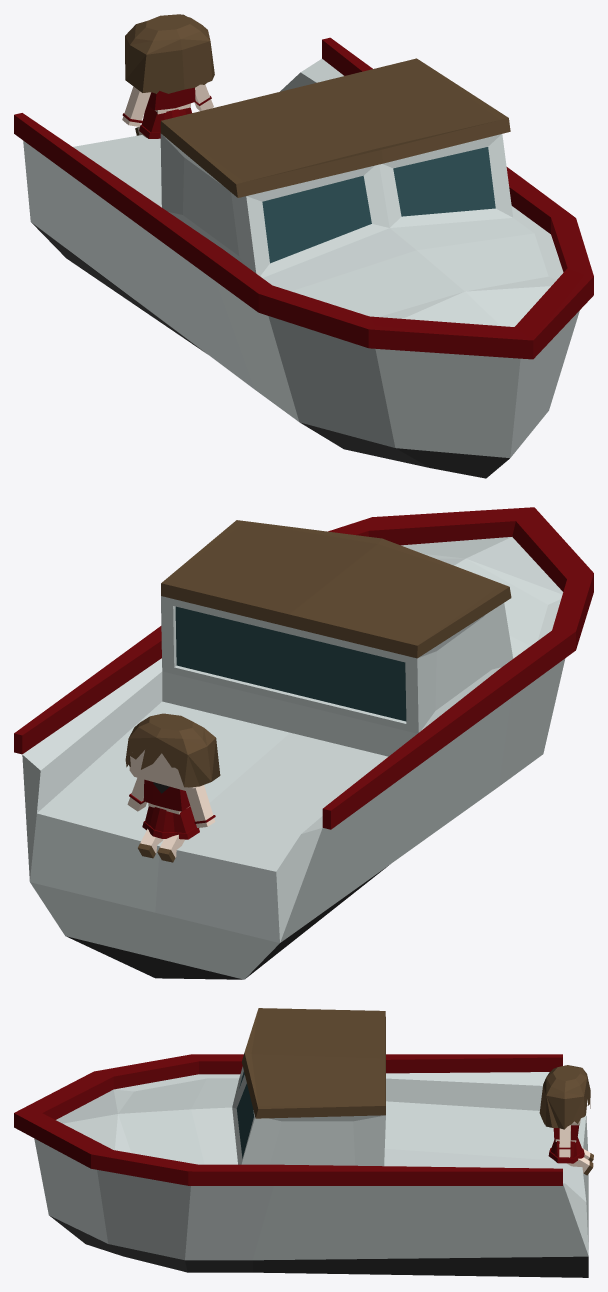
File: littleshipMEIKO.glb
The picture shows the model from 3 angles, top to bottom: view 1: azimuth 30°, elevation 25°; view 2: azimuth 150°, elevation 25°; view 3: azimuth 270°, elevation 25°; orthographic projection. The views are drawn at different scales.
Parts seen in each view (by area): view 1: Cube, 球体, 立方体.004, 立方体.013, 立方体; view 2: Cube, 球体, 立方体.003, 立方体, 立方体.004, 立方体.013; view 3: Cube, 球体.
Boxes of the visible parts, x1,y1,x2,y2 form: Cube: [14, 37, 593, 478]; 球体: [125, 14, 214, 93]; 立方体.004: [147, 87, 195, 110]; 立方体.013: [122, 86, 151, 126]; 立方体: [142, 104, 191, 132]; Cube: [14, 507, 593, 979]; 球体: [125, 713, 220, 787]; 立方体.003: [129, 750, 193, 791]; 立方体: [145, 806, 196, 833]; 立方体.004: [143, 779, 190, 811]; 立方体.013: [186, 785, 215, 827]; Cube: [14, 1008, 588, 1277]; 球体: [539, 1065, 590, 1129].
Bounding box in the file's own units: 3.04 × 2.51 × 6.35.
